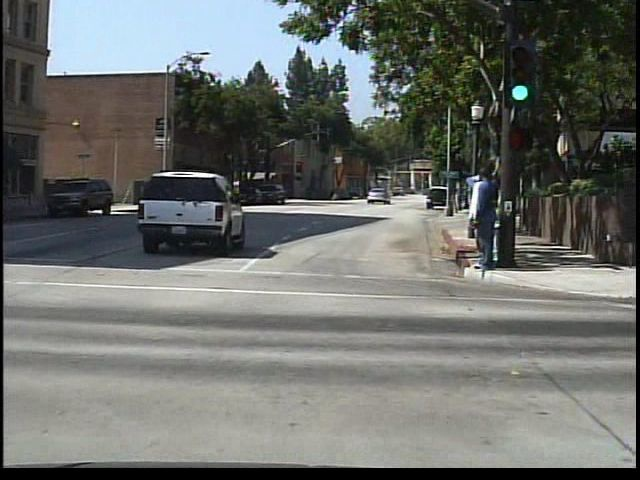person: (462, 170, 491, 272), (471, 167, 498, 274), (328, 185, 339, 202)
